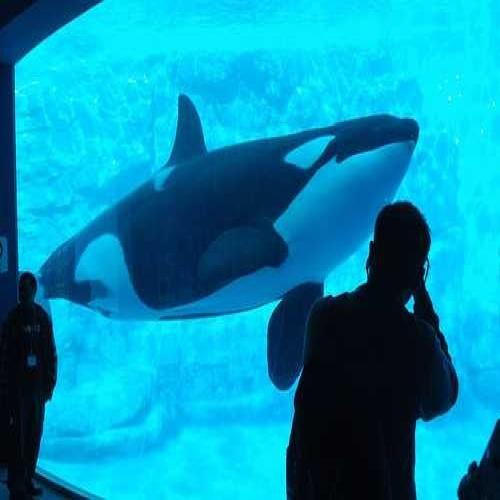killer_whale-endangered: (31, 88, 429, 325)
